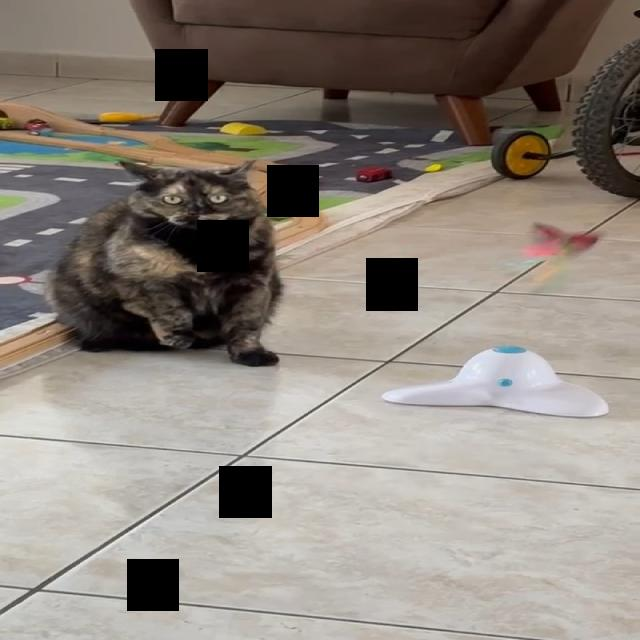authorized: (41, 158, 284, 367)
